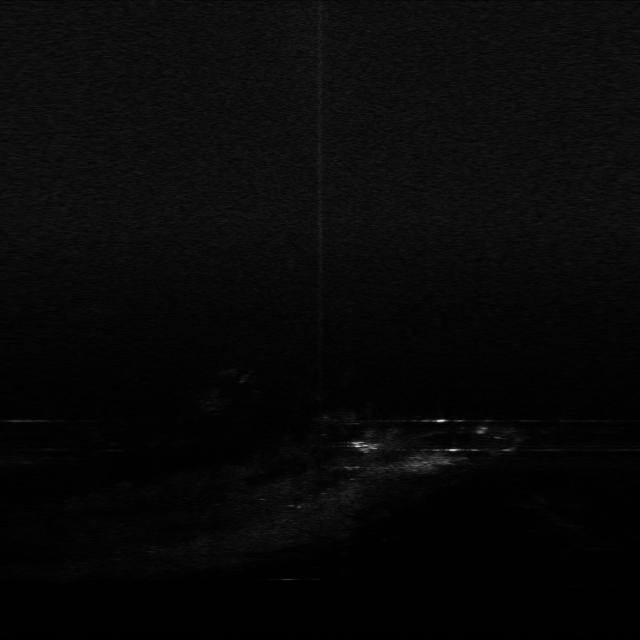rov: (350, 438, 384, 456)
